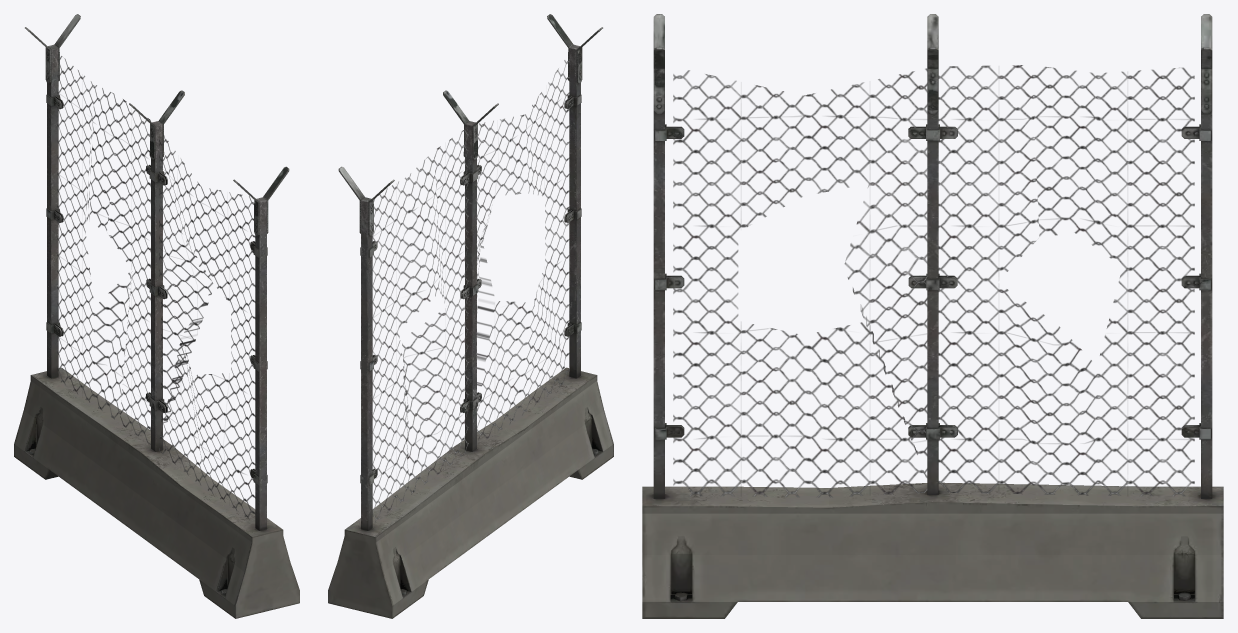
The model's file is barbed-fence--2.gltf.
The picture shows the model from 3 angles, left to right: view 1: azimuth 30°, elevation 25°; view 2: azimuth 150°, elevation 25°; view 3: azimuth 270°, elevation 25°; orthographic projection. The views are drawn at different scales.
Visible parts, largest first — view 1: Cube.040; view 2: Cube.040; view 3: Cube.040.
Boxes of the visible parts, x1,y1,x2,y2 form: Cube.040: [14, 14, 299, 618]; Cube.040: [328, 14, 613, 618]; Cube.040: [642, 14, 1223, 618].
Size of the model in its own units: 0.3891 by 2.5 by 2.32.
2 materials, 2 textured.
